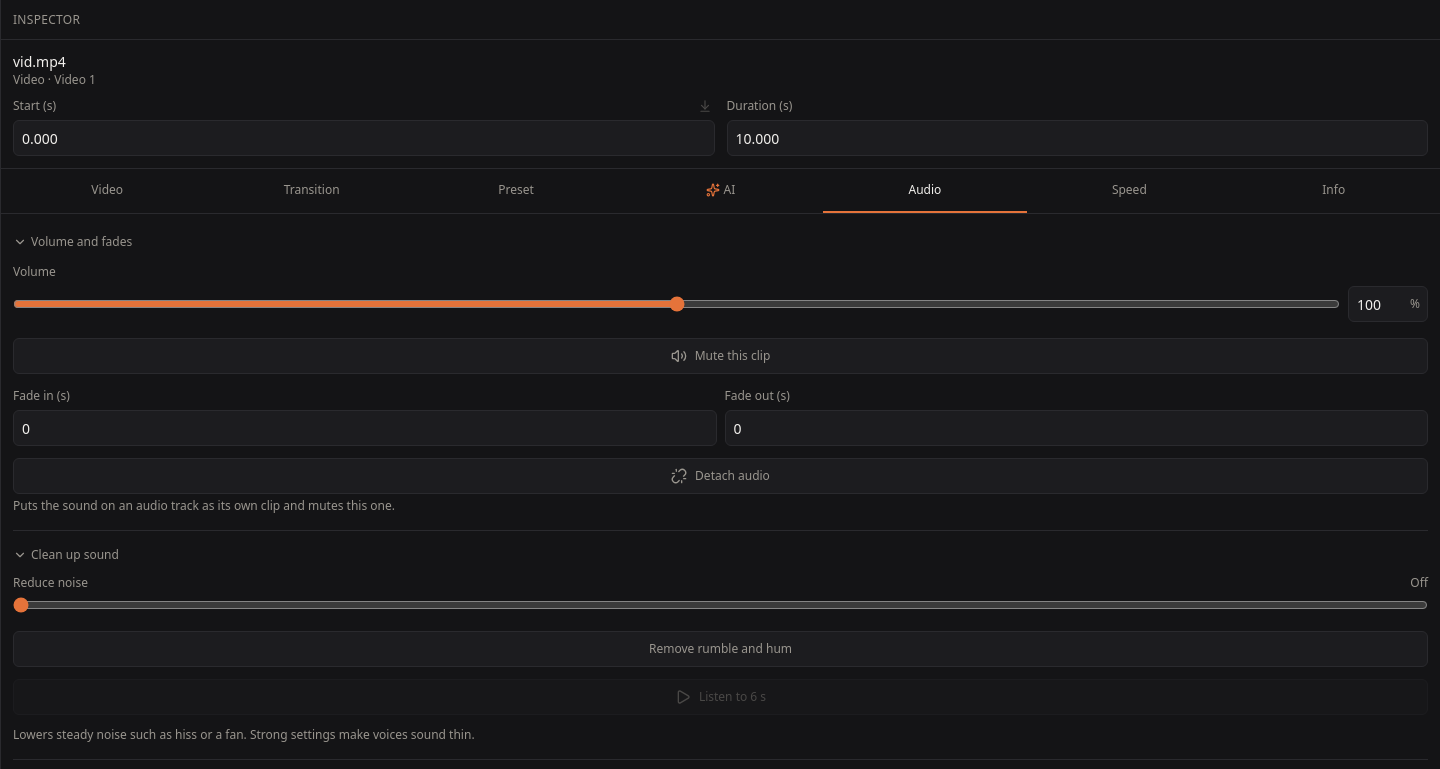
Test: Inspector › volume: dragging previews, release commits one undo step; values clamp to 0-200 %
Set the slider labelled "Volume" to "50" at [349, 304], box [13,296,1340,312]
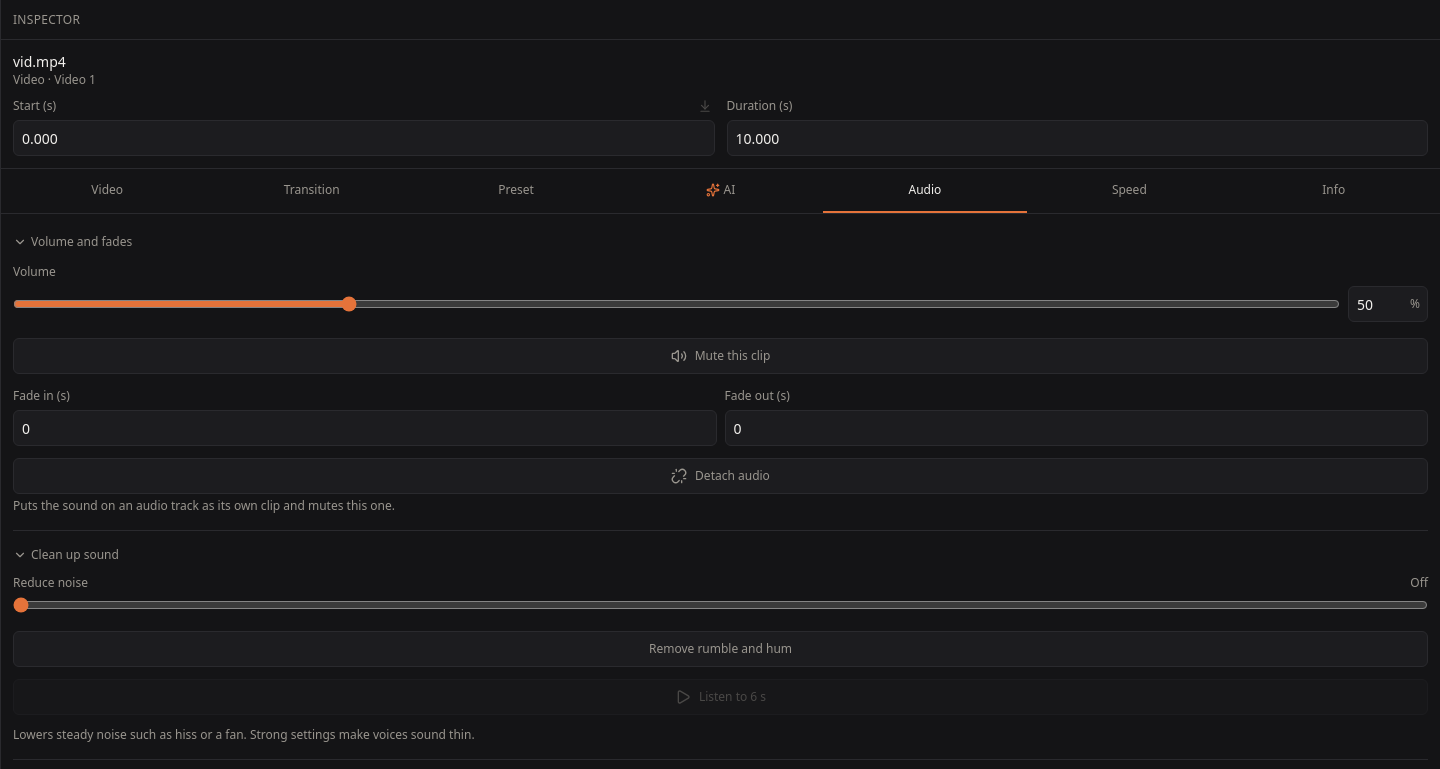
Set the slider labelled "Volume" to "35" at [250, 304], box [13,296,1340,312]
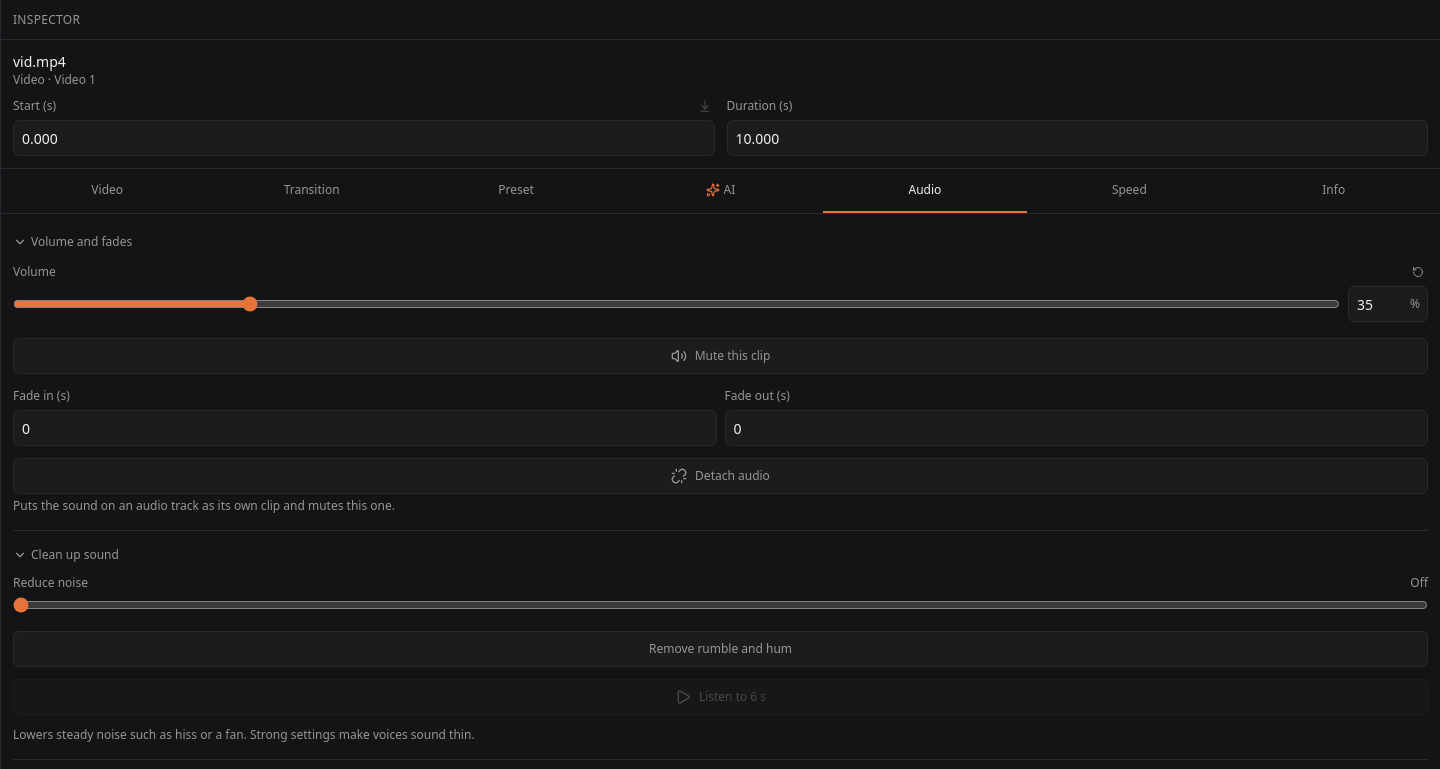
Replace the text in the number field named "Volume percent" with "500" at [1388, 304], box [1348,286,1428,322]
Then press Enter
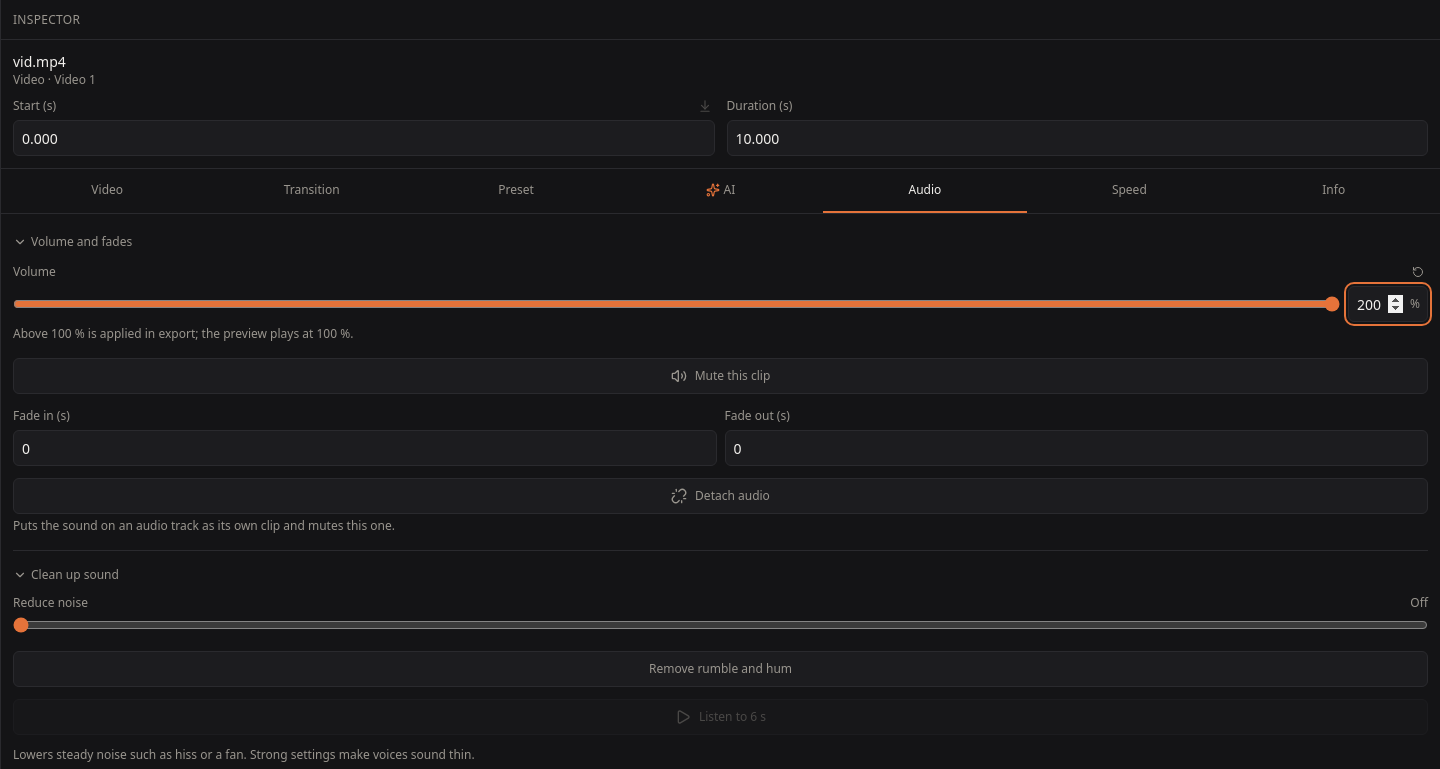
Result: the text "Above 100 %" is shown at [13,325,353,342]
